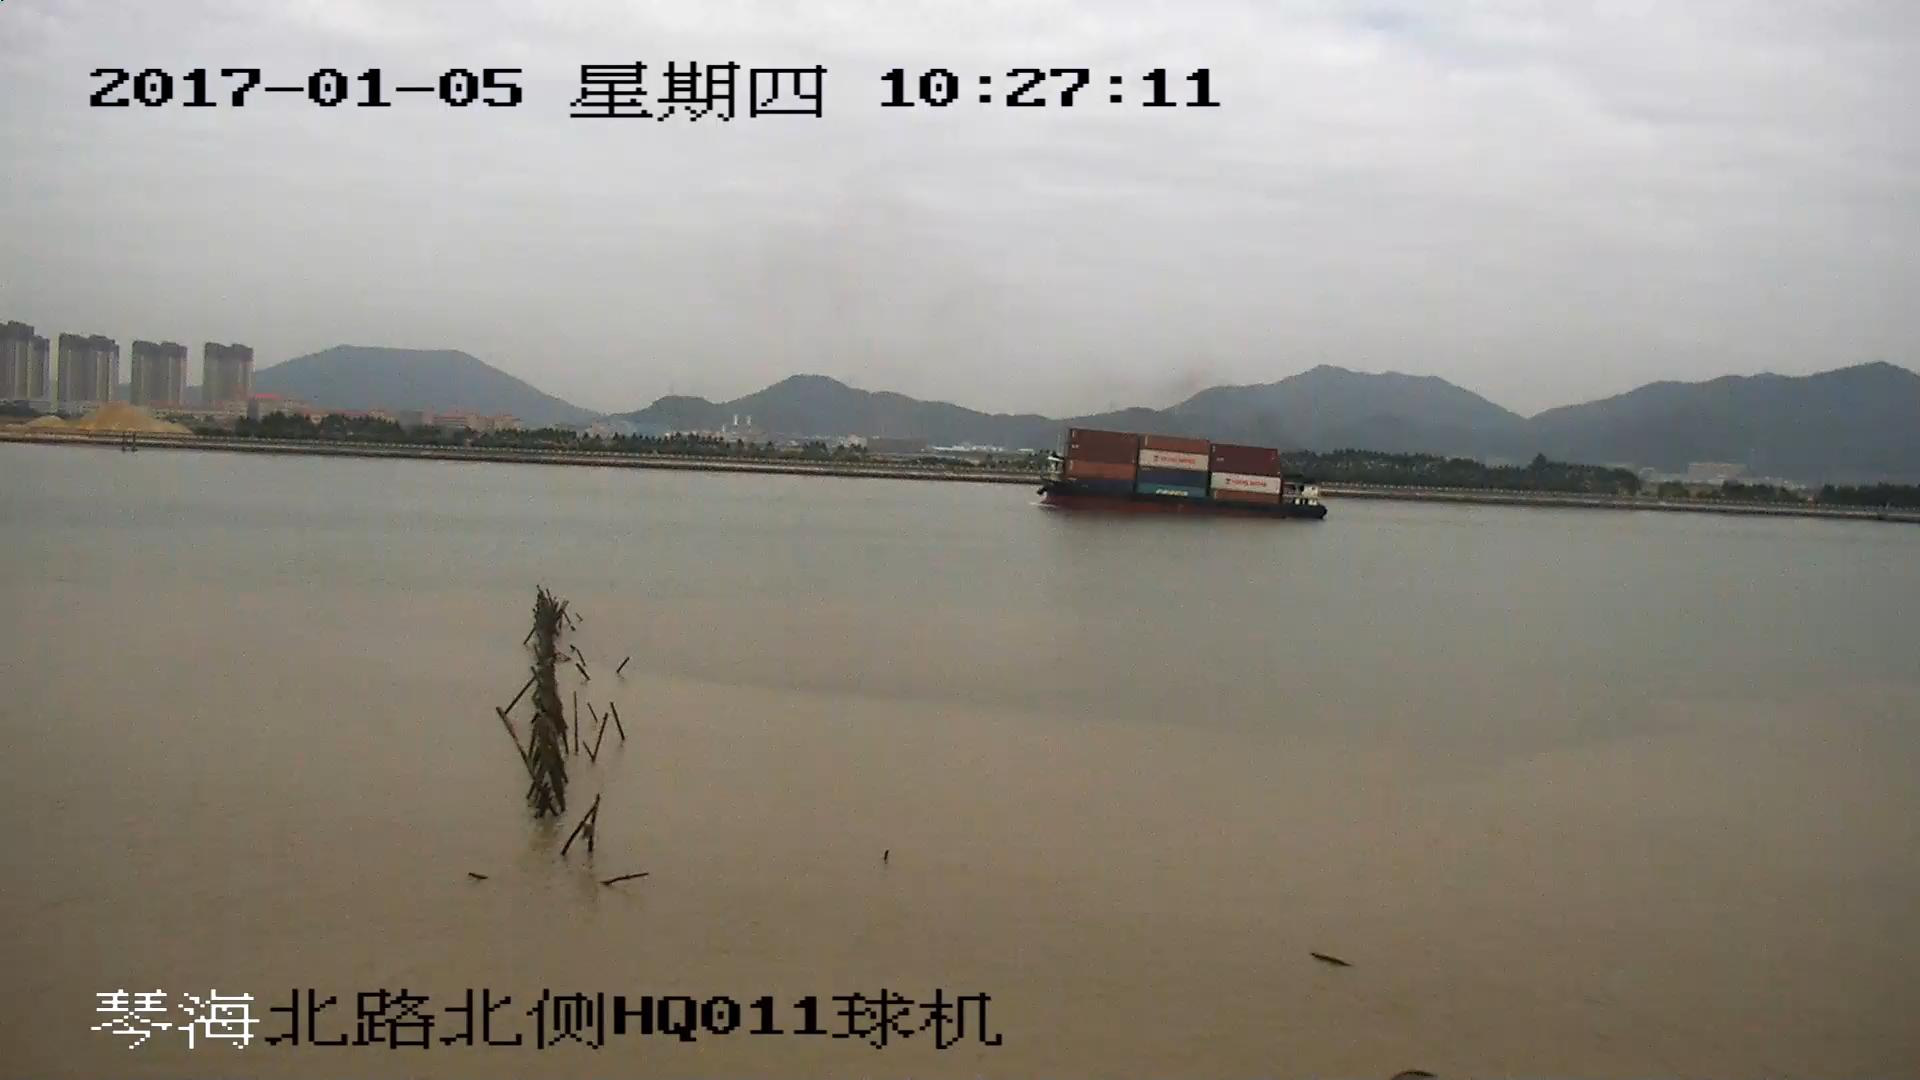container ship: (1038, 431, 1327, 521)
